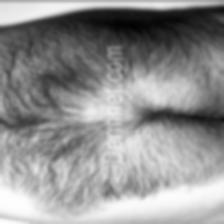Potentially Malignant Skin Tumors: (174, 179, 200, 193)
